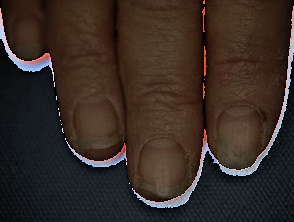Nail_psoriasis: (198, 91, 288, 182), (125, 144, 210, 209), (65, 118, 132, 163)
